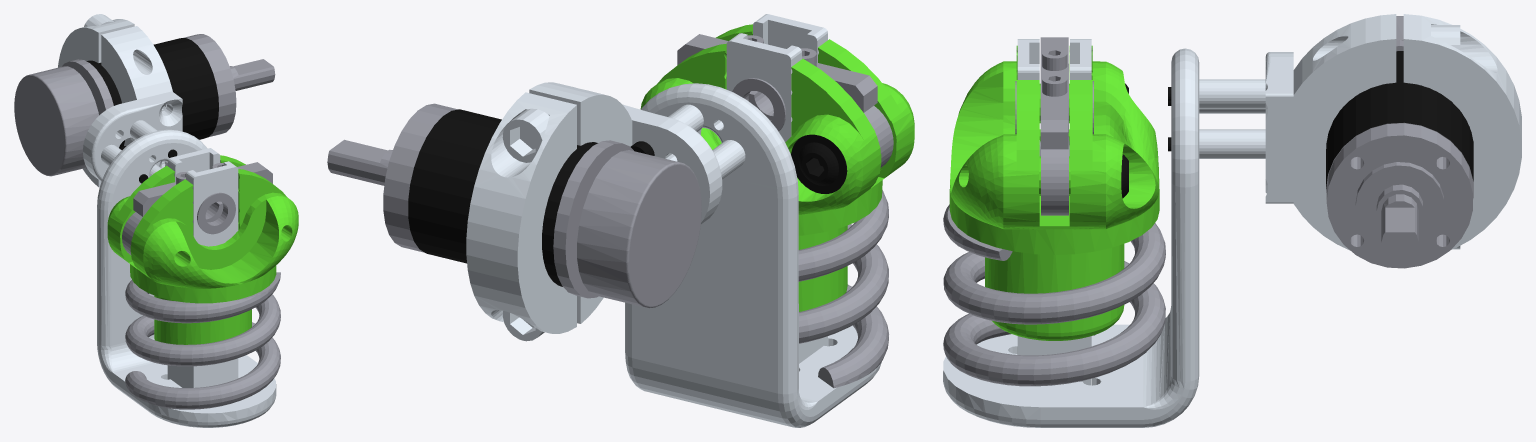
Rendered from sea_arm_01_assem_02_shoulder_pitch_link_left.dae.
3 views of the same model, side by side, from view 1: azimuth 30°, elevation 25°; view 2: azimuth 150°, elevation 25°; view 3: azimuth 270°, elevation 25° (orthographic). The views are drawn at different scales.
Visible parts, largest first — view 1: SEA_Arm_01_Assem_02_-_32_ECFlat_02-1; view 2: SEA_Arm_01_Assem_02_-_32_ECFlat_02-1; view 3: SEA_Arm_01_Assem_02_-_32_ECFlat_02-1.
Part boxes in pixels (x1=…): SEA_Arm_01_Assem_02_-_32_ECFlat_02-1: x1=14, y1=14, x2=298, y2=427; SEA_Arm_01_Assem_02_-_32_ECFlat_02-1: x1=327, y1=14, x2=914, y2=427; SEA_Arm_01_Assem_02_-_32_ECFlat_02-1: x1=943, y1=14, x2=1521, y2=427.
Size of the model in its own units: 0.0935 by 0.1242 by 0.0922.
